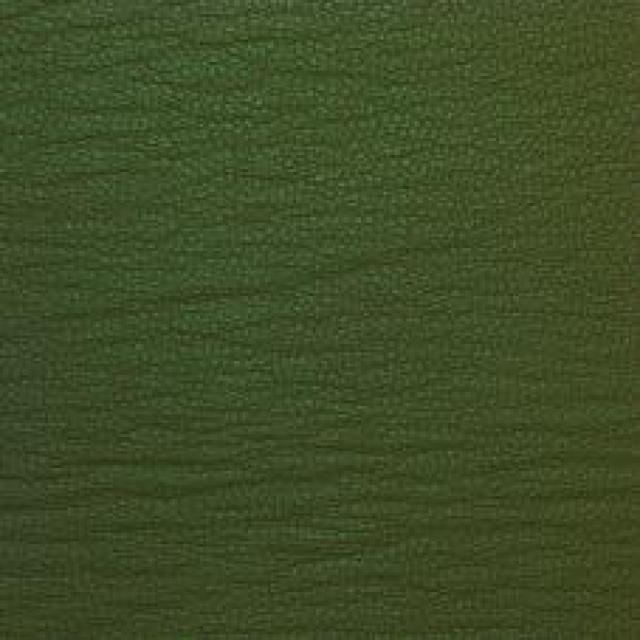Growth Marks: (96, 421, 458, 571), (54, 22, 359, 166)
